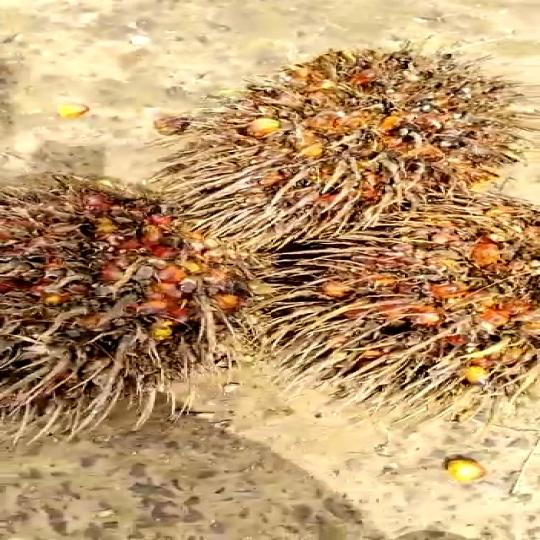terlalu masak: (151, 46, 516, 242), (277, 202, 540, 376)
